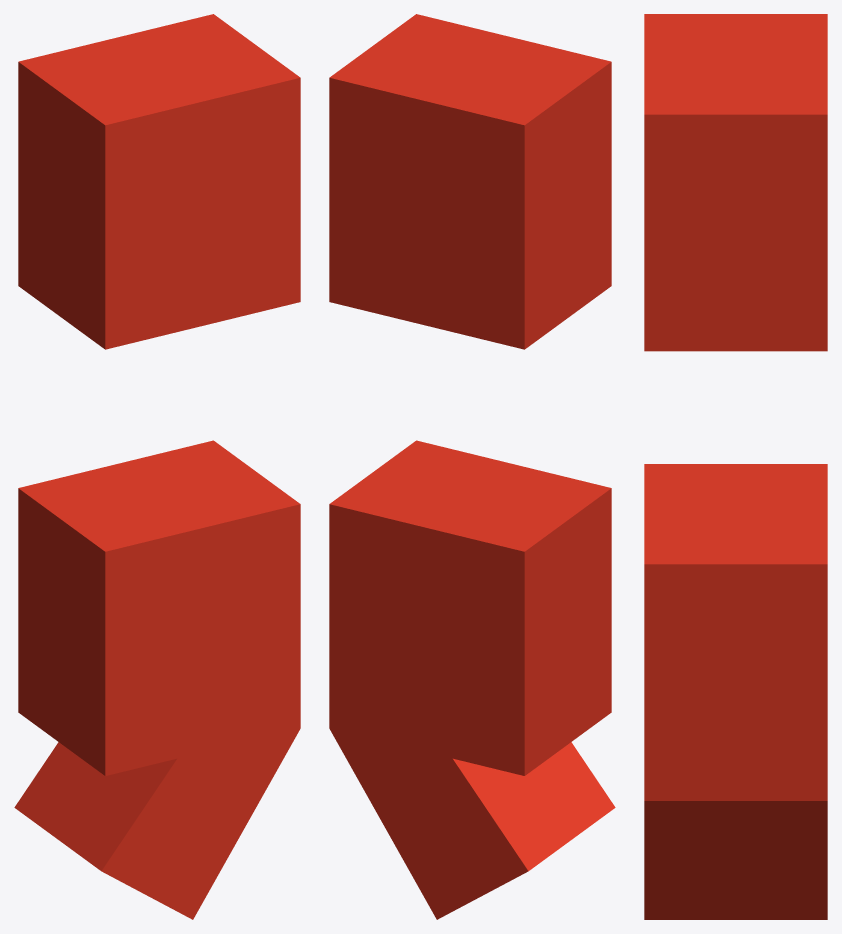
Rendered from Icon_Symbol_Semicolon.fbx.
The picture shows the model from 3 angles, left to right: view 1: azimuth 30°, elevation 25°; view 2: azimuth 150°, elevation 25°; view 3: azimuth 270°, elevation 25°; orthographic projection. The views are drawn at different scales.
Visible parts, largest first — view 1: Icon_Symbol_Semicolon; view 2: Icon_Symbol_Semicolon; view 3: Icon_Symbol_Semicolon.
Part boxes in pixels (bbox=[...]): Icon_Symbol_Semicolon: bbox=[14, 14, 300, 919]; Icon_Symbol_Semicolon: bbox=[329, 14, 615, 919]; Icon_Symbol_Semicolon: bbox=[644, 14, 827, 919].
Size of the model in its own units: 15.95 by 62.4 by 12.06.
